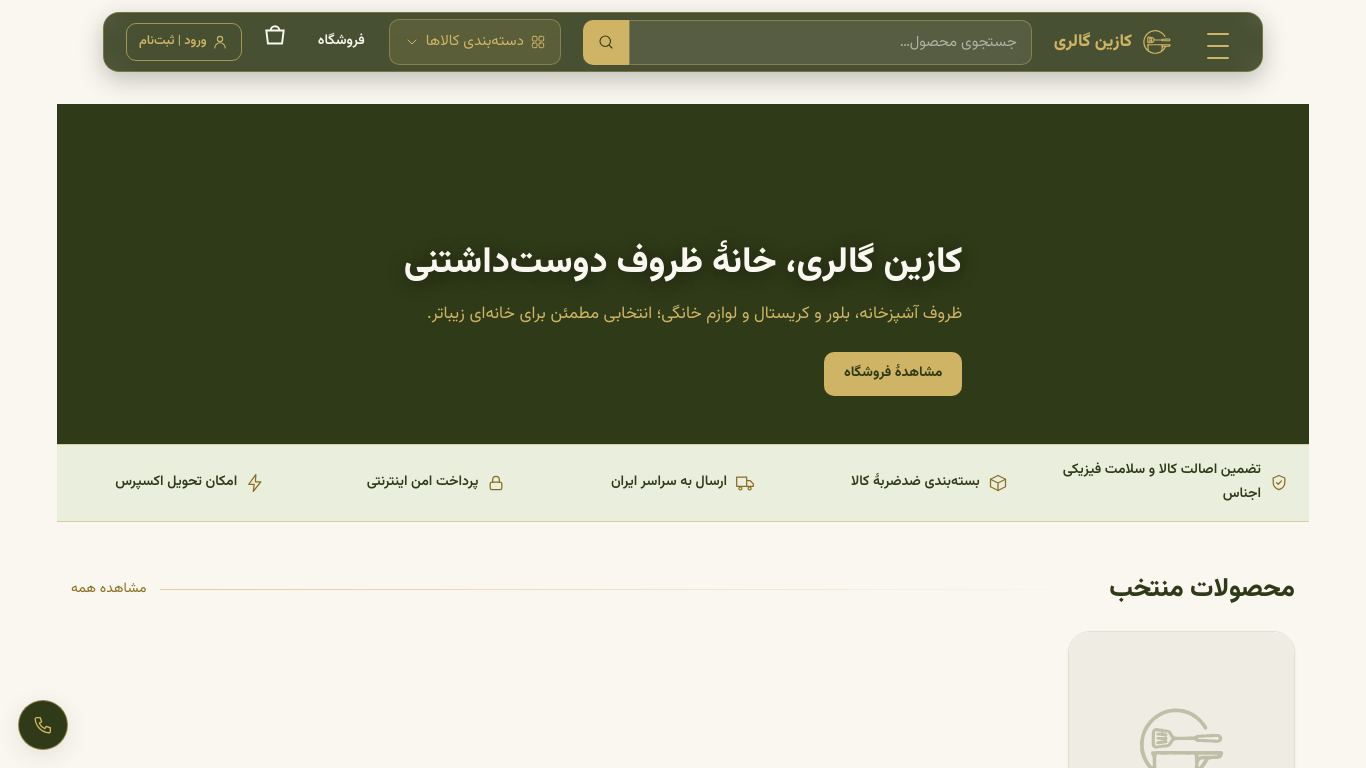
Scenario: full-viewport overlays while the page is scrolled › keeps every header drawer a direct document.body child in compact scroll state
This screenshot has width=1366, height=768.
(page scrolled)
Expected: the header with class "site-header--compact" is shown, [103, 12, 1263, 72]
Click the button with class "cart-link".
click(275, 42)  # box [256, 17, 294, 67]
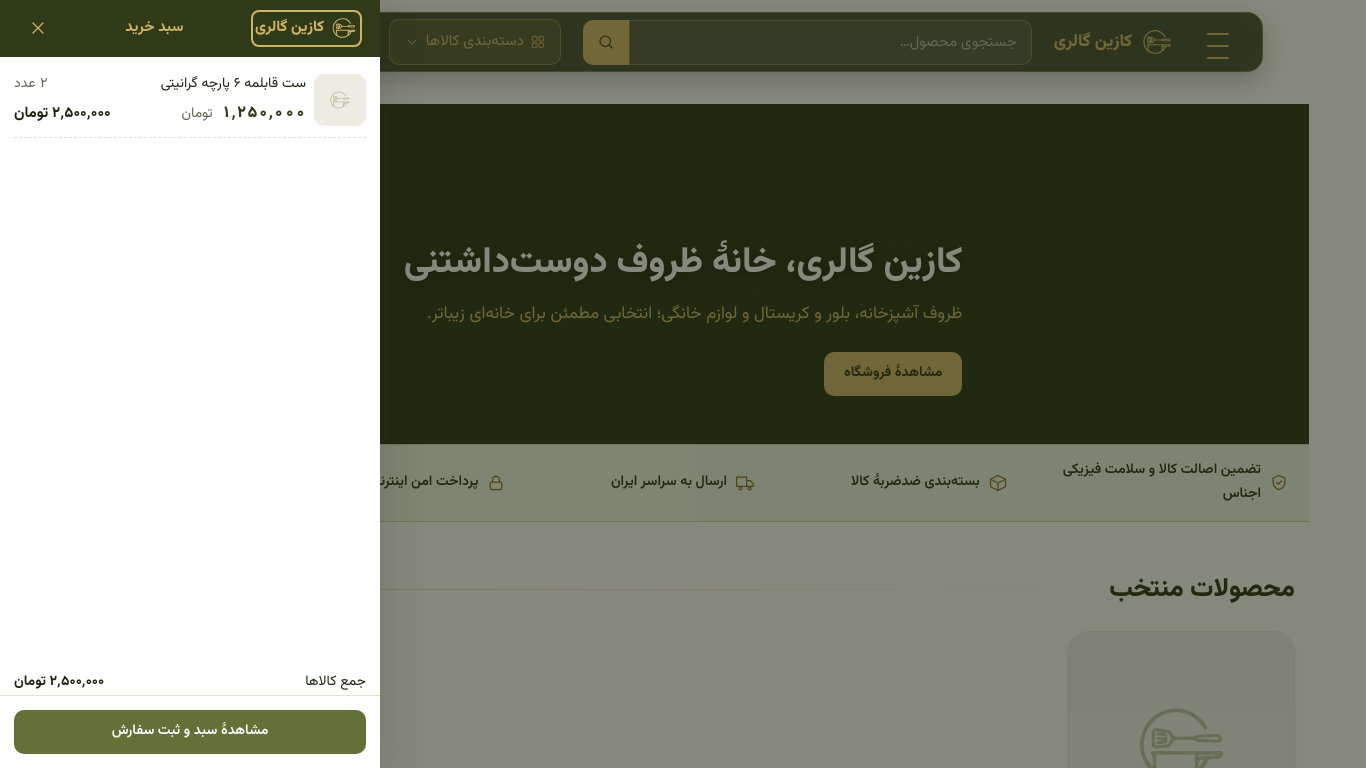
Now the dialog with class "minicart" is shown
Click the element with class "minicart__backdrop".
click(683, 384)  # box [0, 0, 1365, 767]
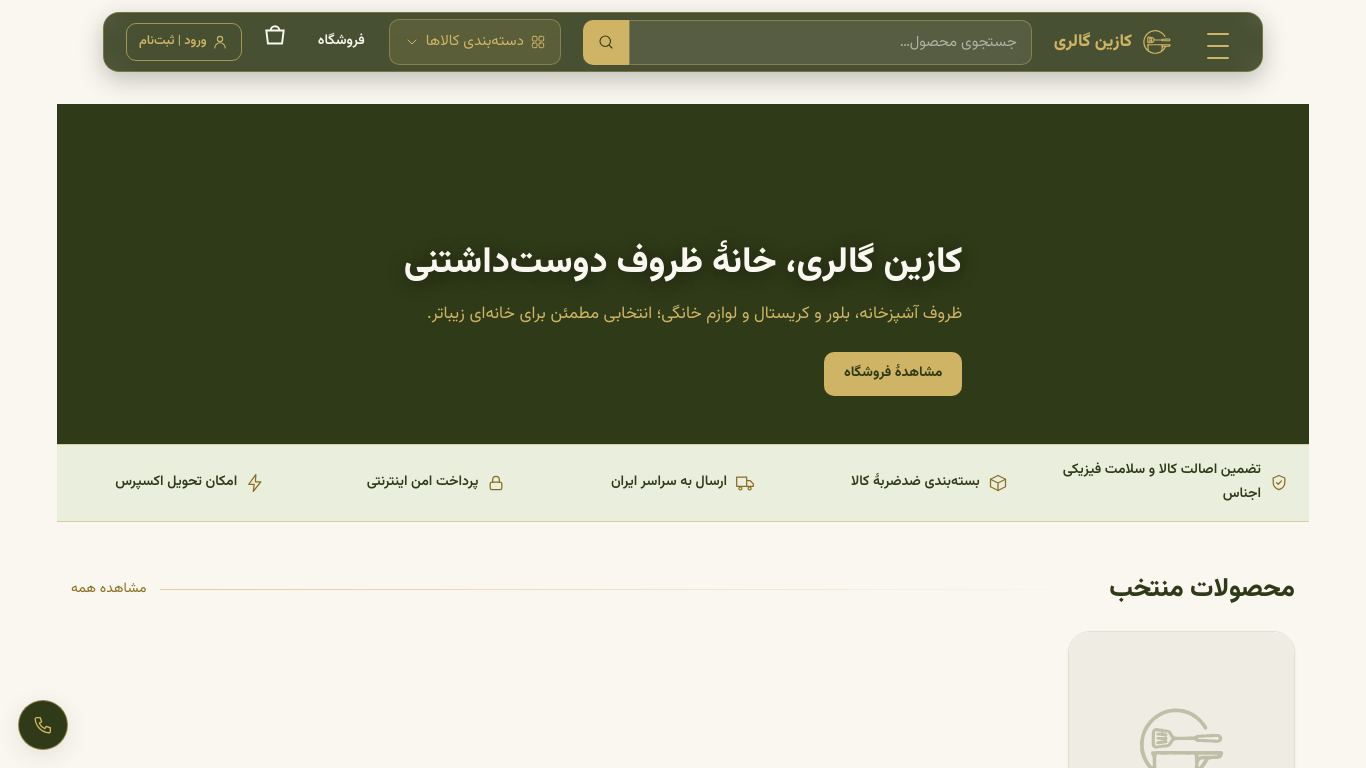
Now the dialog with class "minicart" is gone
Click the button with class "site-header__burger".
click(1218, 42)  # box [1196, 20, 1240, 64]
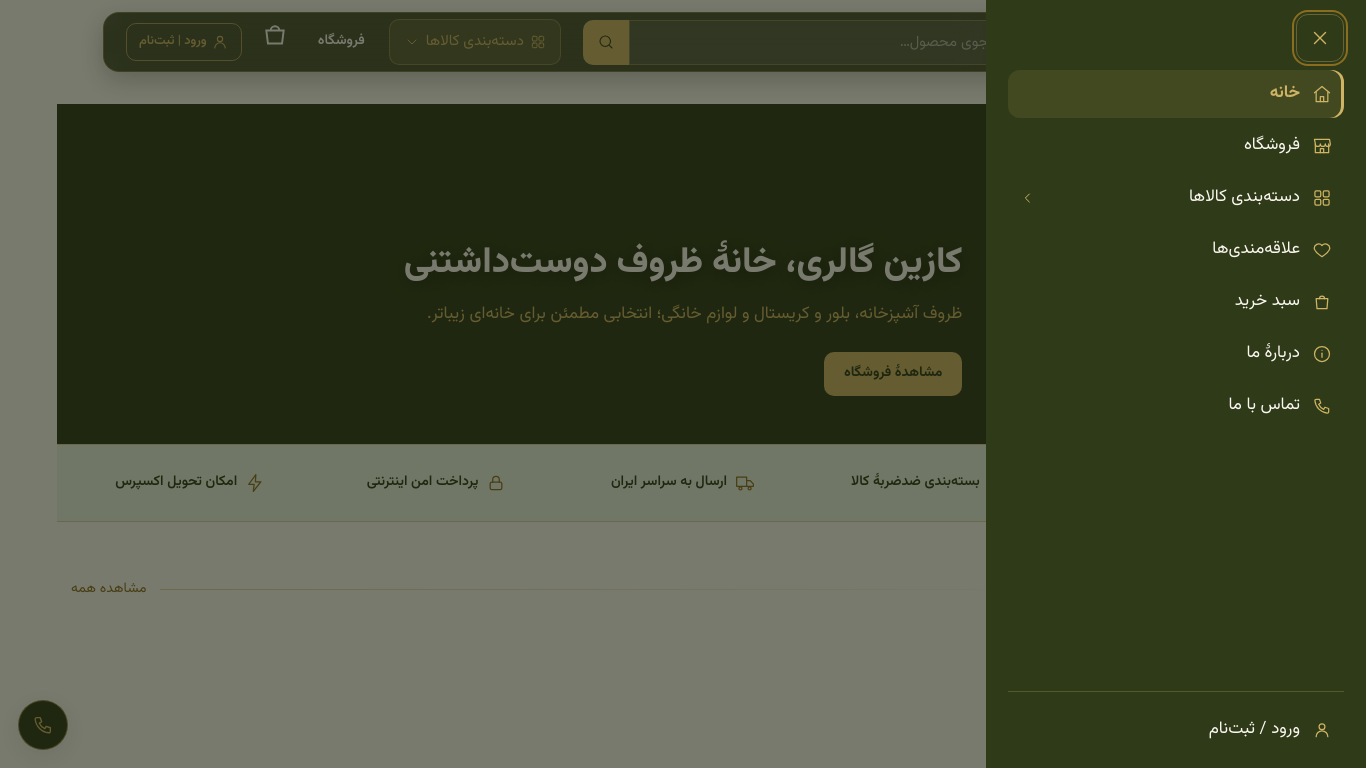
Now the element with class "site-header__drawer" is shown
